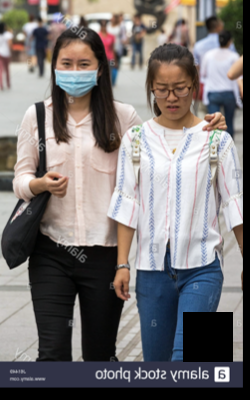with_mask: (52, 55, 98, 97)
without_mask: (151, 77, 194, 120)
